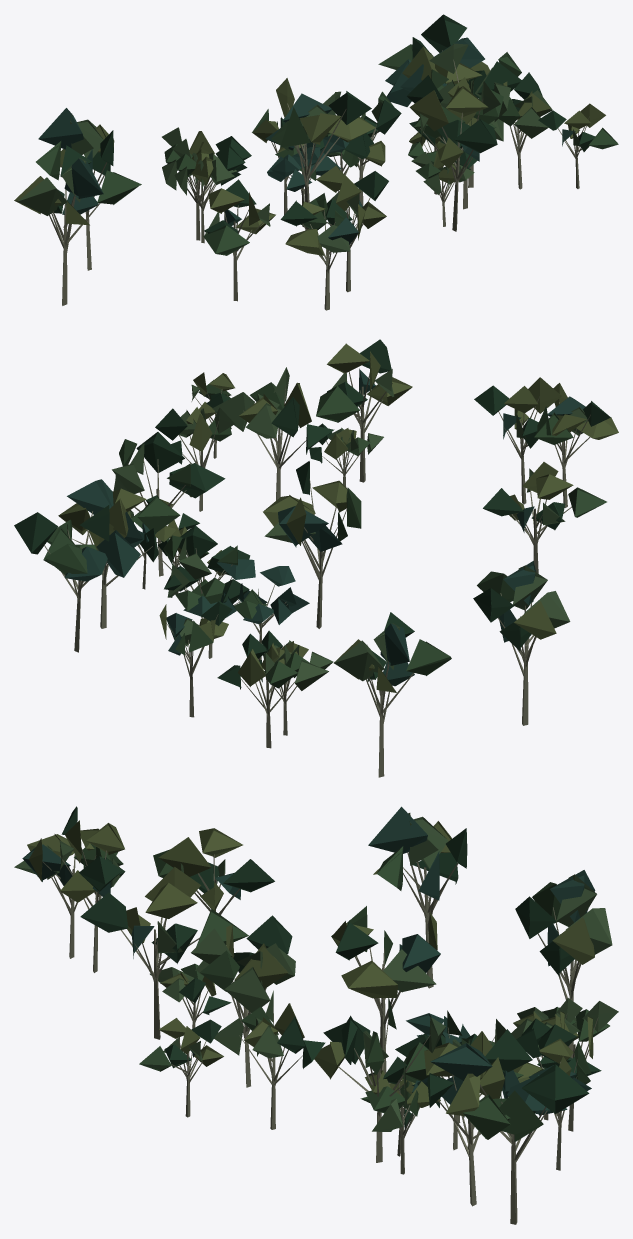
The model's file is forest_19_25.dae.
The picture shows the model from 3 angles, top to bottom: view 1: azimuth 30°, elevation 25°; view 2: azimuth 150°, elevation 25°; view 3: azimuth 270°, elevation 25°; orthographic projection. The views are drawn at different scales.
Parts seen in each view (by area): view 1: Node; view 2: Node; view 3: Node.
Boxes of the visible parts, x1,y1,x2,y2 form: Node: (14, 14, 618, 310); Node: (14, 339, 618, 777); Node: (14, 806, 618, 1224).
Bounding box in the file's own units: 11.71 × 10.35 × 5.76.
